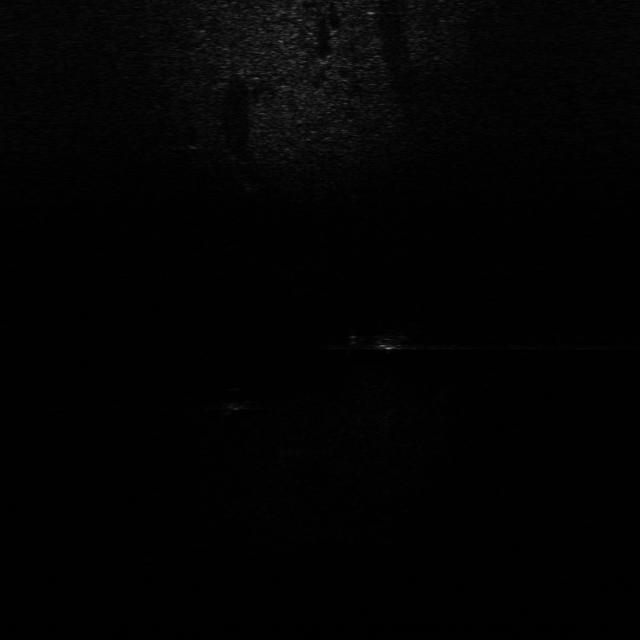ball: (216, 384, 260, 416)
human body: (324, 322, 424, 354)
